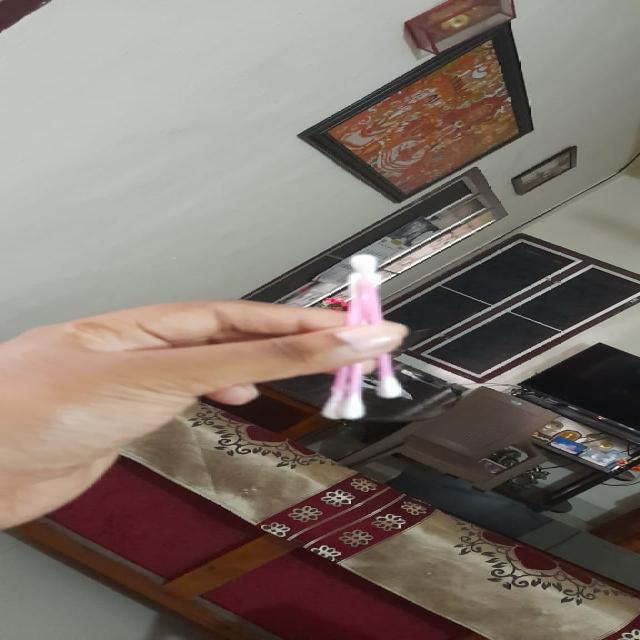Earbud - Non Recyclable: (267, 234, 455, 441)
